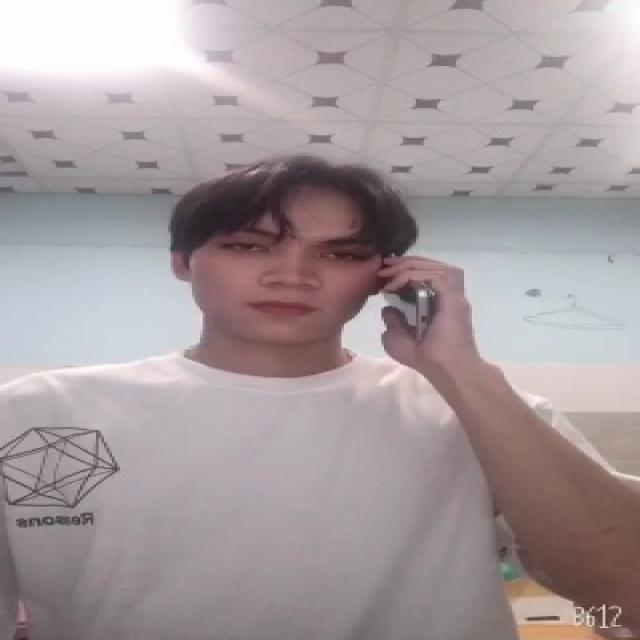Phone: (384, 256, 436, 346)
